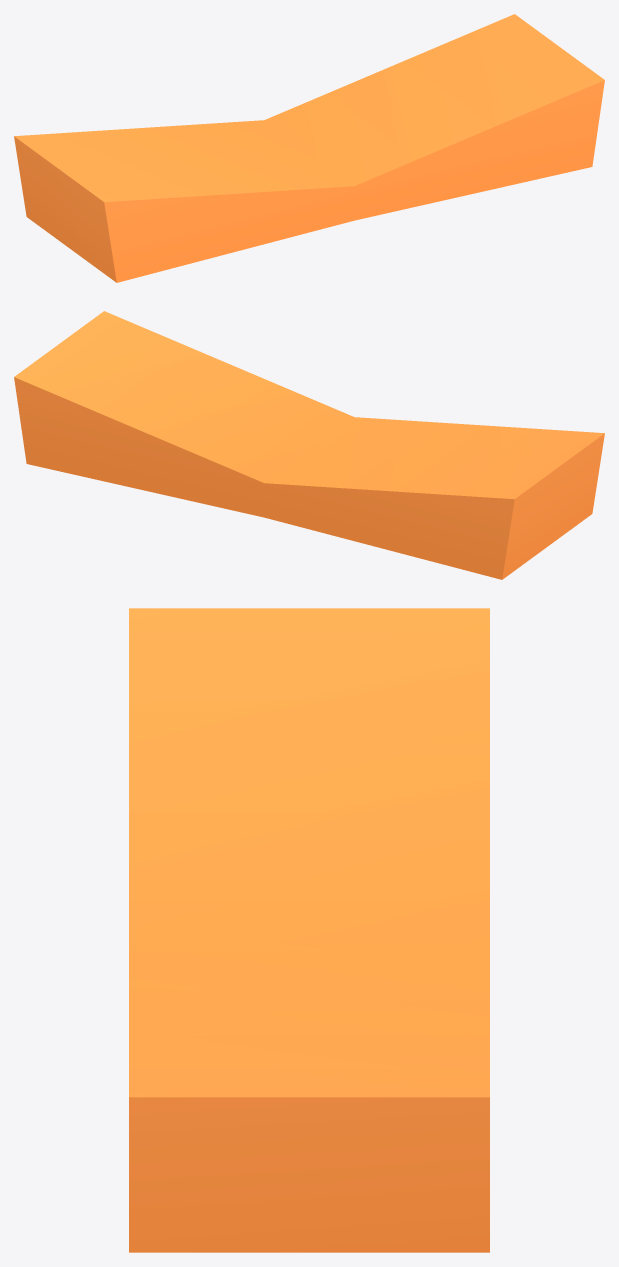
File: bronze_guard_080.glb
3 renders of one model, top to bottom at view 1: azimuth 30°, elevation 25°; view 2: azimuth 150°, elevation 25°; view 3: azimuth 270°, elevation 25°, orthographic. The views are drawn at different scales.
Parts seen in each view (by area): view 1: bronze_guard_080; view 2: bronze_guard_080; view 3: bronze_guard_080.
Boxes of the visible parts, <box> form: bronze_guard_080: <box>14,14,604,282</box>; bronze_guard_080: <box>14,311,604,579</box>; bronze_guard_080: <box>129,608,489,1252</box>.
Size of the model in its own units: 6.41 by 1.03 by 2.
1 material, 1 textured.
